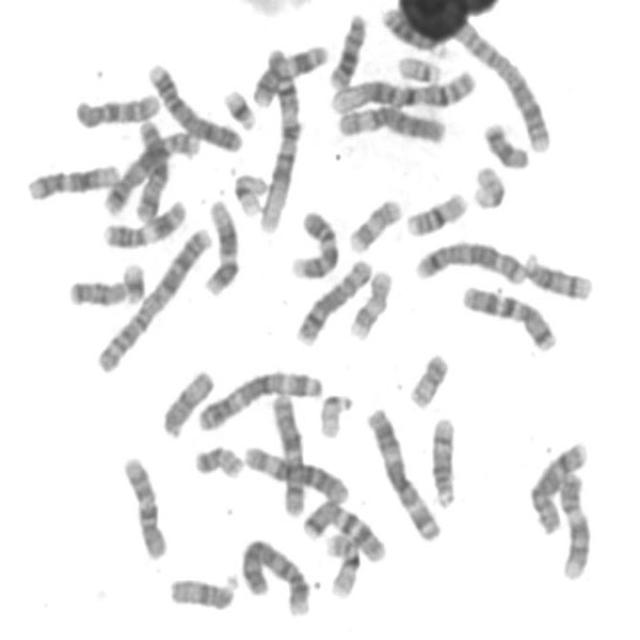A1: (253, 41, 306, 236), (327, 62, 481, 116)
A2: (92, 220, 216, 374), (444, 11, 557, 153)
A3: (363, 400, 446, 543), (193, 363, 327, 433)
B4: (142, 56, 247, 154), (237, 530, 315, 618)
B5: (99, 123, 202, 217), (410, 233, 530, 287)
C10: (119, 448, 172, 562), (72, 86, 164, 130)
C11: (248, 38, 332, 108), (99, 192, 190, 250)
C12: (23, 156, 123, 202), (200, 192, 243, 296)
C6: (239, 438, 354, 506), (332, 98, 451, 146)
C7: (457, 277, 561, 353), (298, 491, 391, 564)
C8: (292, 251, 376, 347), (525, 435, 592, 536)
C9: (554, 467, 595, 583), (287, 203, 343, 280)
D13: (379, 1, 452, 56), (326, 5, 370, 91)
D14: (520, 244, 598, 303), (427, 410, 462, 509)
D15: (158, 363, 218, 440), (166, 567, 242, 612)
E16: (403, 184, 472, 239), (322, 524, 364, 600)
E17: (346, 264, 396, 342), (344, 192, 406, 254)
E18: (479, 115, 534, 170), (65, 271, 132, 308)
F19: (231, 167, 271, 218), (470, 159, 509, 211)
F20: (406, 346, 454, 410), (190, 438, 249, 480)
G21: (220, 81, 261, 132), (118, 256, 150, 306)
G22: (316, 386, 357, 440), (394, 49, 446, 85)
X: (267, 387, 310, 519), (133, 112, 170, 224)
